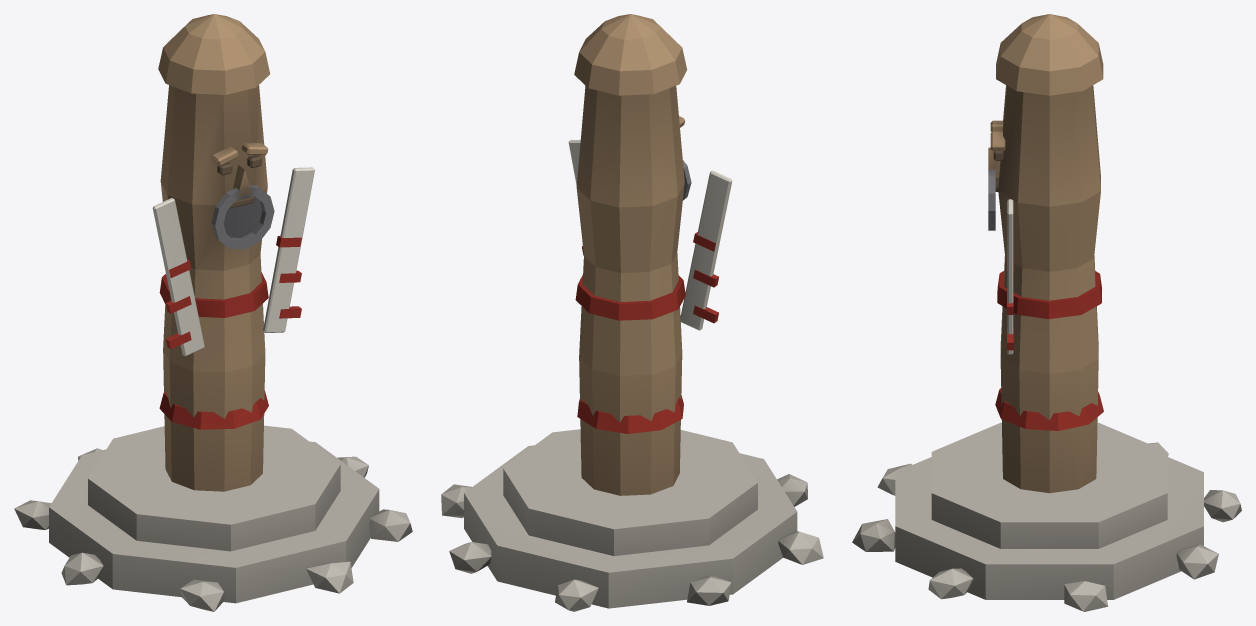
File: idol_obereg.glb
3 renders of one model, left to right at view 1: azimuth 30°, elevation 25°; view 2: azimuth 150°, elevation 25°; view 3: azimuth 270°, elevation 25°, orthographic.
Parts seen in each view (by area): view 1: idol_obereg; view 2: idol_obereg; view 3: idol_obereg.
Part boxes in pixels (x1,y1,x2,y2): idol_obereg: (14, 14, 412, 611); idol_obereg: (441, 14, 823, 611); idol_obereg: (852, 14, 1241, 611).
Size of the model in its own units: 0.7993 by 1.18 by 0.7939.
